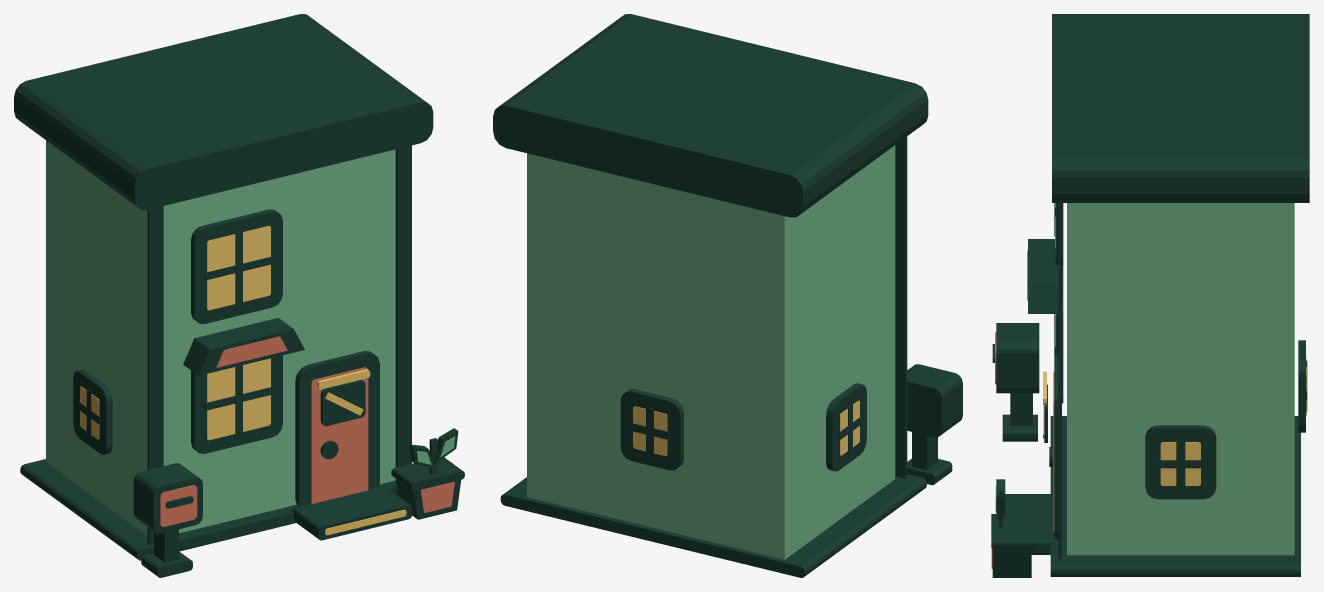
The picture shows the model from 3 angles, left to right: view 1: azimuth 30°, elevation 25°; view 2: azimuth 150°, elevation 25°; view 3: azimuth 270°, elevation 25°; orthographic projection. The views are drawn at different scales.
Parts seen in each view (by area): view 1: Rent Free house; view 2: Rent Free house; view 3: Rent Free house.
Boxes of the visible parts, bbox=[...] form: Rent Free house: bbox=[14, 14, 464, 577]; Rent Free house: bbox=[493, 14, 962, 577]; Rent Free house: bbox=[991, 14, 1309, 577].
Size of the model in its own units: 0.86 by 1.04 by 0.72.
